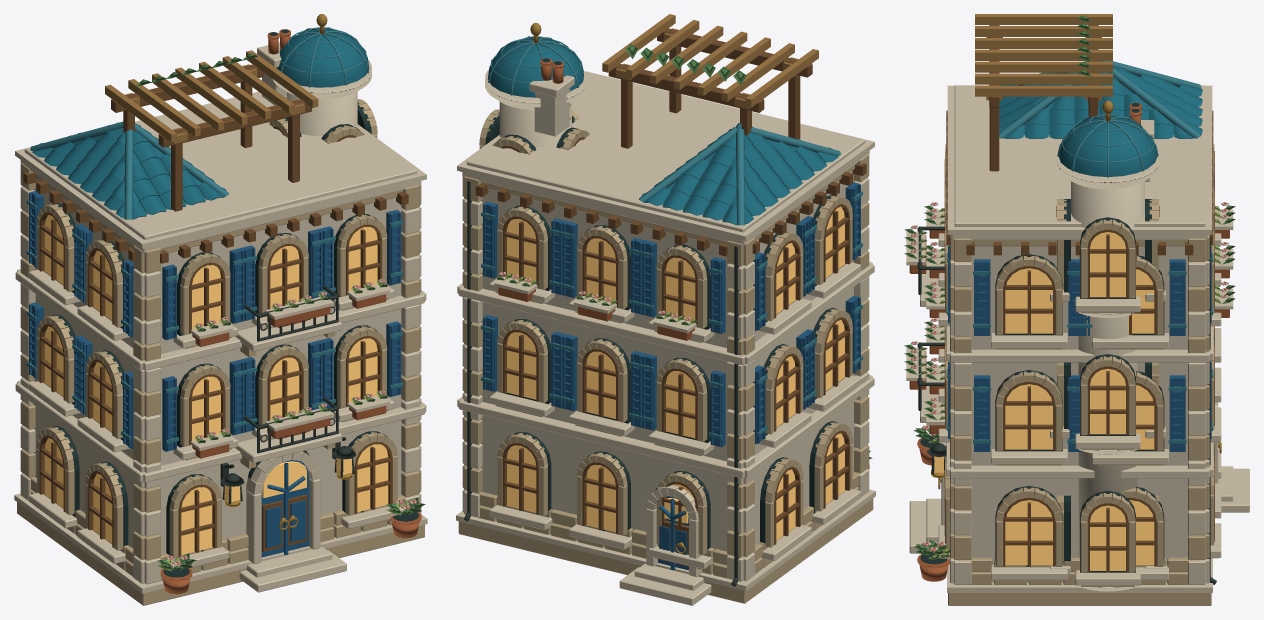
3 renders of one model, left to right at view 1: azimuth 30°, elevation 25°; view 2: azimuth 150°, elevation 25°; view 3: azimuth 270°, elevation 25°, orthographic. The views are drawn at different scales.
Visible parts, largest first — view 1: harbor_tower_3_geometry; view 2: harbor_tower_3_geometry; view 3: harbor_tower_3_geometry.
Boxes of the visible parts, x1,y1,x2,y2 form: harbor_tower_3_geometry: (14, 14, 427, 605); harbor_tower_3_geometry: (456, 14, 875, 605); harbor_tower_3_geometry: (904, 14, 1249, 605).
Size of the model in its own units: 0.99 by 1.43 by 0.913.
